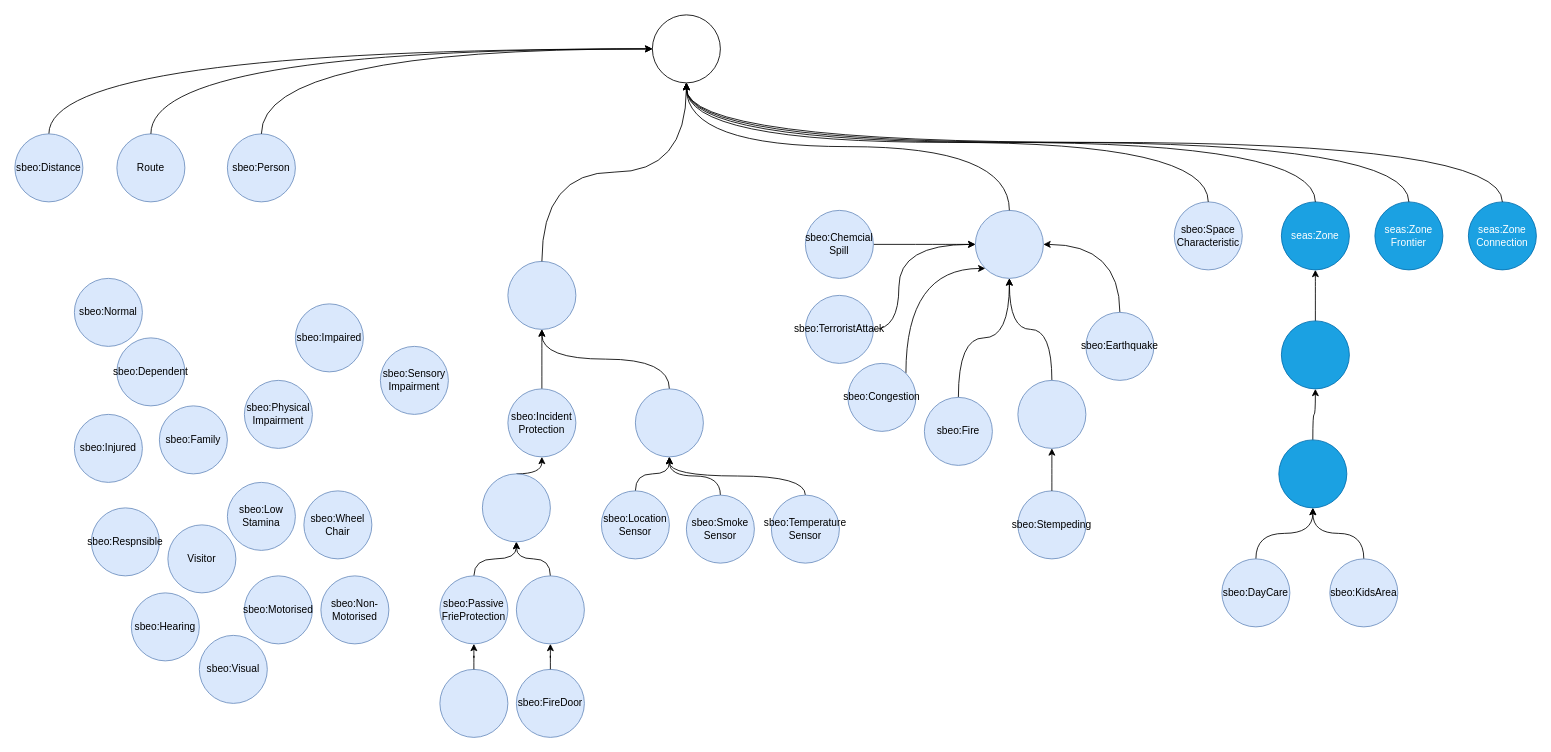
Image size: 1551x752. Some labels were removed from this diagram. The centre of each missing label's shape, as x and y in pixels:
"owl:Thing" goes at point (686, 48).
"sbeo:Active FireProtection" goes at point (550, 609).
"sbeo:Device" goes at point (541, 295).
"sbeo:Fire Extinguisher" goes at point (473, 703).
"sbeo:Fire Protection" goes at point (516, 507).
"sbeo:Incident" goes at point (1009, 244).
"sbeo:Panic" goes at point (1051, 414).
"seas:Building Space" goes at point (1315, 354).
"seas:Room" goes at point (1312, 473).
"Sensor" goes at point (669, 422).
